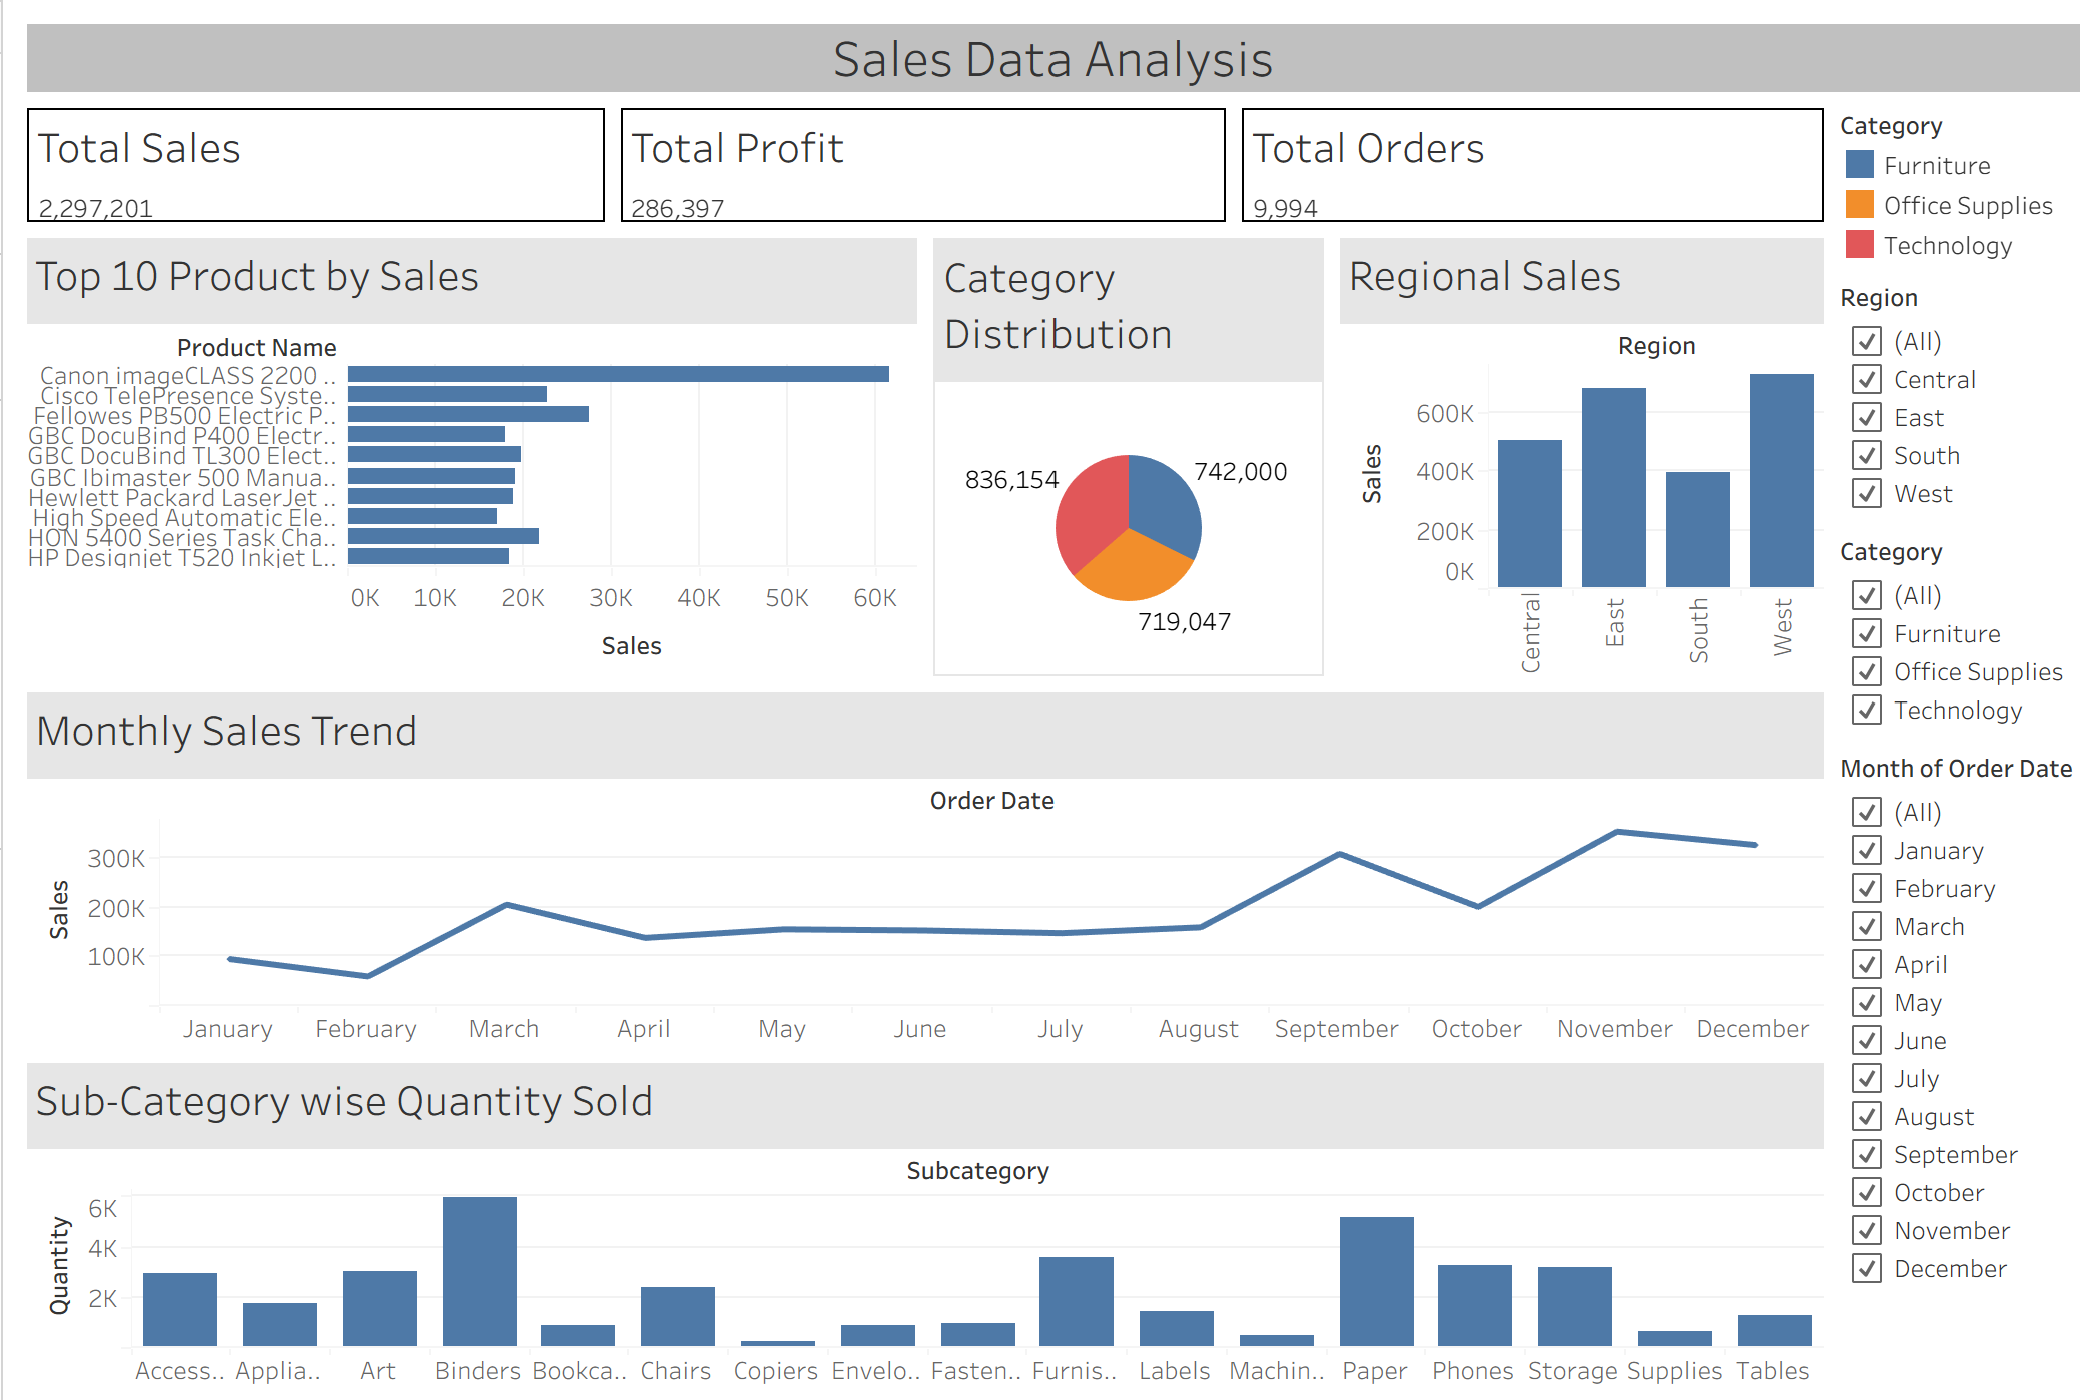

Layout of this report page (visuals, bound fields, positions):
{"tool":"tableau","page":{"name":"Sales Data Analysis","canvas":[1000,1000],"units":"permille","ordinal":0},"visuals":[{"type":"title","box":[7.6,11.2,984.8,58.6]},{"type":"worksheet","title":"Total Sales","mark":"Automatic","box":[7.6,69.7,283,90.5]},{"type":"worksheet","title":"Total Profit","mark":"Automatic","box":[290.6,69.7,295.3,90.5]},{"type":"worksheet","title":"Total Orders","mark":"Automatic","box":[585.9,69.7,284.6,90.5]},{"type":"legend","title":"Category Distribution","param":"[federated.17yoog81nuapbu1d61vo51tu7za8].[none:category:nk]","box":[870.5,69.7,121.9,120]},{"type":"worksheet","title":"Top 10 Product by Sales","mark":"Automatic","rows":["product_name"],"cols":["sales"],"box":[7.6,160.2,431.4,316.8]},{"type":"worksheet","title":"Category Distribution","mark":"Pie","box":[439,160.2,193.8,316.8]},{"type":"worksheet","title":"Regional Sales","mark":"Automatic","rows":["sales"],"cols":["region"],"box":[632.8,160.2,237.7,316.8]},{"type":"filter","title":"Category Distribution","param":"[federated.17yoog81nuapbu1d61vo51tu7za8].[none:region:nk]","box":[870.5,189.7,121.9,177.1]},{"type":"filter","title":"Monthly Sales Trend","param":"[federated.17yoog81nuapbu1d61vo51tu7za8].[none:category:nk]","box":[870.5,366.8,121.9,150.6]},{"type":"worksheet","title":"Monthly Sales Trend","mark":"Automatic","rows":["sales"],"cols":["order_date"],"box":[7.6,477,862.9,257.5]},{"type":"filter","title":"Sub-Category wise Quantity Sold","param":"[federated.17yoog81nuapbu1d61vo51tu7za8].[mn:order_date:ok]","box":[870.5,517.5,121.9,389.1]},{"type":"worksheet","title":"Sub-Category wise Quantity Sold","mark":"Automatic","rows":["quantity"],"cols":["subcategory"],"box":[7.6,734.5,862.9,254.4]}]}

Visuals, with their boxes on the dashboard's canvas, which has no fixed pixel size, in thousandths of its width and height (x1, y1, x2, y2). These are canvas units, not pixel positions in the 2100x1400 screenshot, which may show the page scaled, cropped or inside an application window:
title: BBox(8, 11, 992, 70)
"Total Sales" worksheet: BBox(8, 70, 291, 160)
"Total Profit" worksheet: BBox(291, 70, 586, 160)
"Total Orders" worksheet: BBox(586, 70, 870, 160)
"Category Distribution" legend: BBox(870, 70, 992, 190)
"Top 10 Product by Sales" worksheet: BBox(8, 160, 439, 477)
"Category Distribution" worksheet (Pie marks): BBox(439, 160, 633, 477)
"Regional Sales" worksheet: BBox(633, 160, 870, 477)
"Category Distribution" filter: BBox(870, 190, 992, 367)
"Monthly Sales Trend" filter: BBox(870, 367, 992, 517)
"Monthly Sales Trend" worksheet: BBox(8, 477, 870, 734)
"Sub-Category wise Quantity Sold" filter: BBox(870, 518, 992, 907)
"Sub-Category wise Quantity Sold" worksheet: BBox(8, 734, 870, 989)
